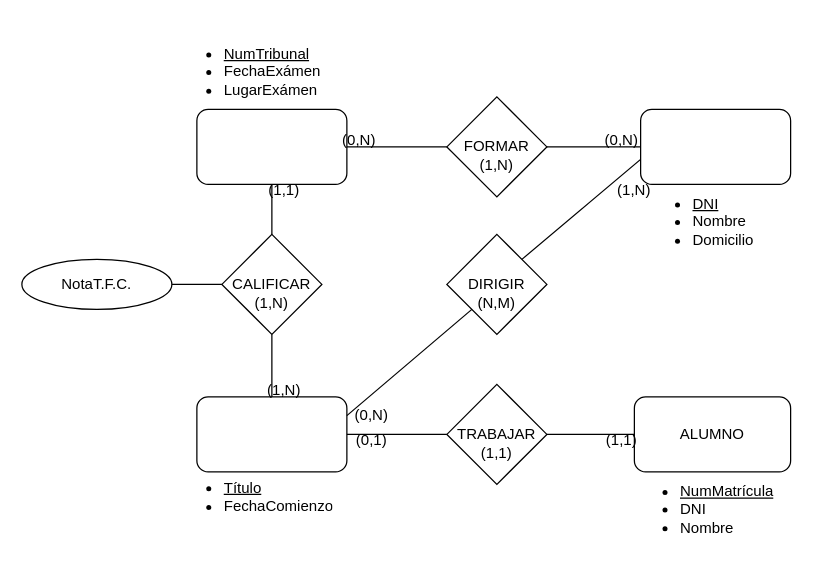
This 838x580 diagram has some shape labels left out. The shapes that lost their labels are listed below. From the top down, each one's centre as x and y in pixels, then its label:
point (271, 146): TRIBUNAL
point (715, 146): PROFESOR
point (271, 434): T.F.C.
